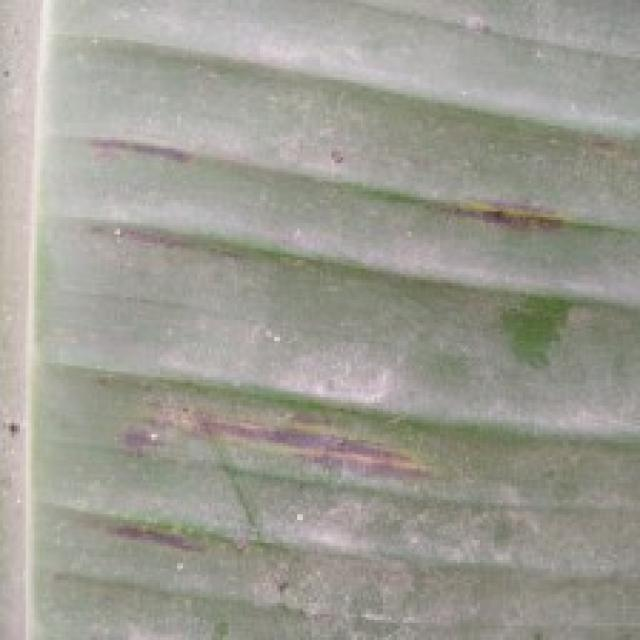Early_leaf_spot: (91, 380, 448, 500), (424, 182, 583, 254), (68, 113, 208, 186)
